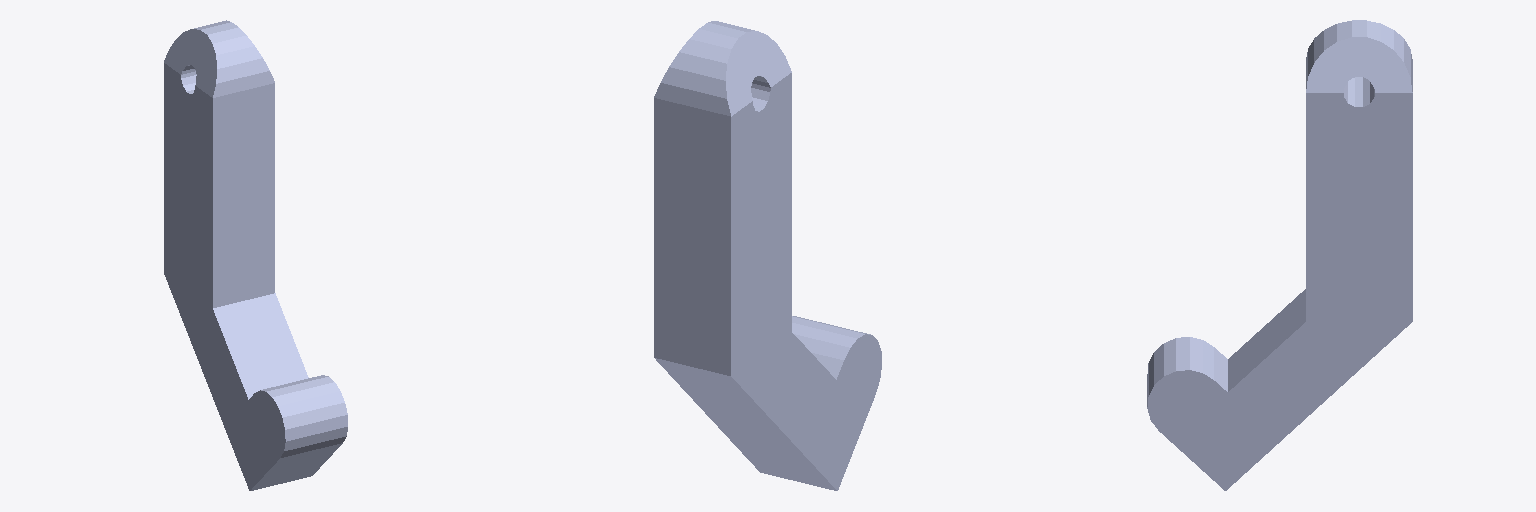
The robot description file, URDF, robot "just_arm":
<?xml version="1.0" encoding="utf-8"?>
<!-- This URDF was automatically created by SolidWorks to URDF Exporter! Originally created by [author] ([email redacted]) 
     Commit Version: 1.6.0-1-g15f4949  Build Version: 1.6.7594.29634
     For more information, please see http://wiki.ros.org/sw_urdf_exporter -->
<robot
  name="just_arm">
  <link
    name="arm_link">
    <inertial>
      <origin
        xyz="6.4998E-08 -0.012715 -0.064788"
        rpy="0 0 0" />
      <mass
        value="0.12781" />
      <inertia
        ixx="0.00027224"
        ixy="-6.26E-11"
        ixz="-5.2198E-10"
        iyy="0.00022223"
        iyz="-7.6551E-05"
        izz="6.3032E-05" />
    </inertial>
    <visual>
      <origin
        xyz="0 0 0"
        rpy="0 0 0" />
      <geometry>
        <mesh
          filename="package://just_arm/meshes/arm_link.STL" />
      </geometry>
      <material
        name="">
        <color
          rgba="0.79216 0.81961 0.93333 1" />
      </material>
    </visual>
    <collision>
      <origin
        xyz="0 0 0"
        rpy="0 0 0" />
      <geometry>
        <mesh
          filename="package://just_arm/meshes/arm_link.STL" />
      </geometry>
    </collision>
  </link>
  <link
    name="rod">
    <inertial>
      <origin
        xyz="-0.00477 1.3878E-17 0"
        rpy="0 0 0" />
      <mass
        value="0.0047124" />
      <inertia
        ixx="5.8905E-08"
        ixy="-1.5954E-39"
        ixz="4.1999E-39"
        iyy="1.4432E-06"
        iyz="5.294E-23"
        izz="1.4432E-06" />
    </inertial>
    <visual>
      <origin
        xyz="0 0 0"
        rpy="0 0 0" />
      <geometry>
        <mesh
          filename="package://just_arm/meshes/rod.STL" />
      </geometry>
      <material
        name="">
        <color
          rgba="0.79216 0.81961 0.93333 1" />
      </material>
    </visual>
    <collision>
      <origin
        xyz="0 0 0"
        rpy="0 0 0" />
      <geometry>
        <mesh
          filename="package://just_arm/meshes/rod.STL" />
      </geometry>
    </collision>
  </link>
  <joint
    name="rev"
    type="continuous">
    <origin
      xyz="0 0 0"
      rpy="0 0 0" />
    <parent
      link="arm_link" />
    <child
      link="rod" />
    <axis
      xyz="1 0 0" />
  </joint>
</robot>

--- What the picture shows (computed from the rendered views, not written in the file) ---
Views: 3 orthographic renders of the robot side by side, from view 1: azimuth 30°, elevation 25°; view 2: azimuth 150°, elevation 25°; view 3: azimuth 270°, elevation 25°.
Model just_arm with 2 links and 1 joints (1 continuous), rooted at arm_link, posed every joint at zero.
Visible links, largest first — view 1: arm_link; view 2: arm_link; view 3: arm_link.
Link boxes in pixels (left/top/right/bottom): arm_link: left=164, top=20, right=347, bottom=490; arm_link: left=654, top=21, right=881, bottom=490; arm_link: left=1147, top=20, right=1412, bottom=490.
Bounding box of the posed robot: 0.025 × 0.0842 × 0.1561 m (x, y, z).
Meshes: 2 distinct files referenced, 1 mesh visuals loaded (1 binary STL); not drawn: 1 (reference not matched to a file when rendering).